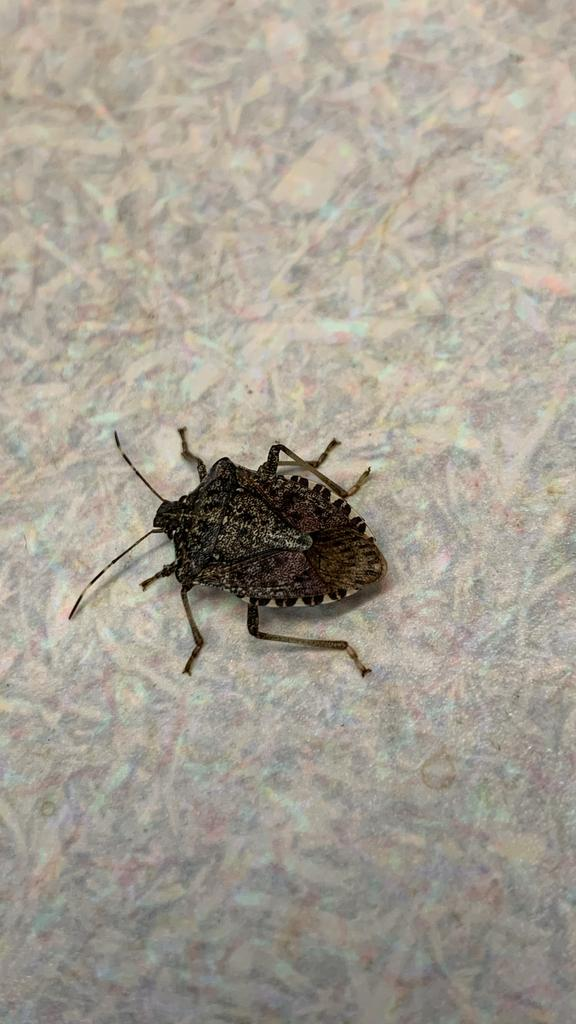stink_bugs: (36, 374, 466, 723)
